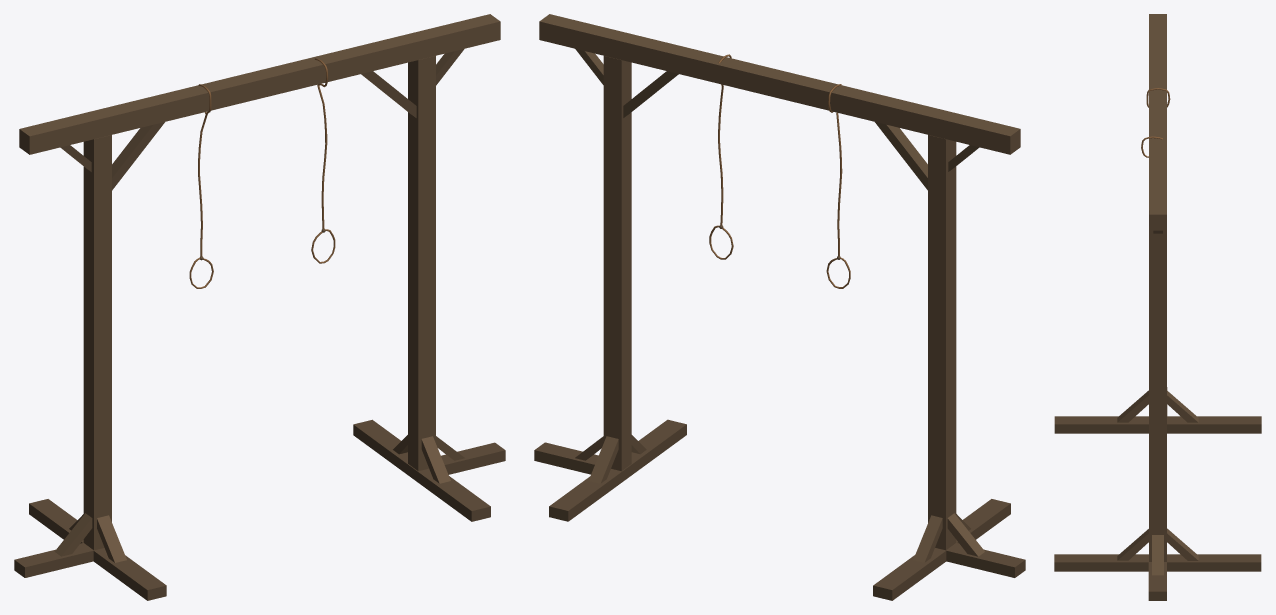
The model's file is Gallows.glb.
3 views of the same model, side by side, from view 1: azimuth 30°, elevation 25°; view 2: azimuth 150°, elevation 25°; view 3: azimuth 270°, elevation 25° (orthographic). The views are drawn at different scales.
Visible parts, largest first — view 1: torture_device_005; view 2: torture_device_005; view 3: torture_device_005.
Part boxes in pixels (bbox=[...]): torture_device_005: bbox=[14, 14, 505, 600]; torture_device_005: bbox=[534, 14, 1025, 600]; torture_device_005: bbox=[1054, 14, 1261, 600].
Size of the model in its own units: 5.39 by 4.75 by 2.3.
